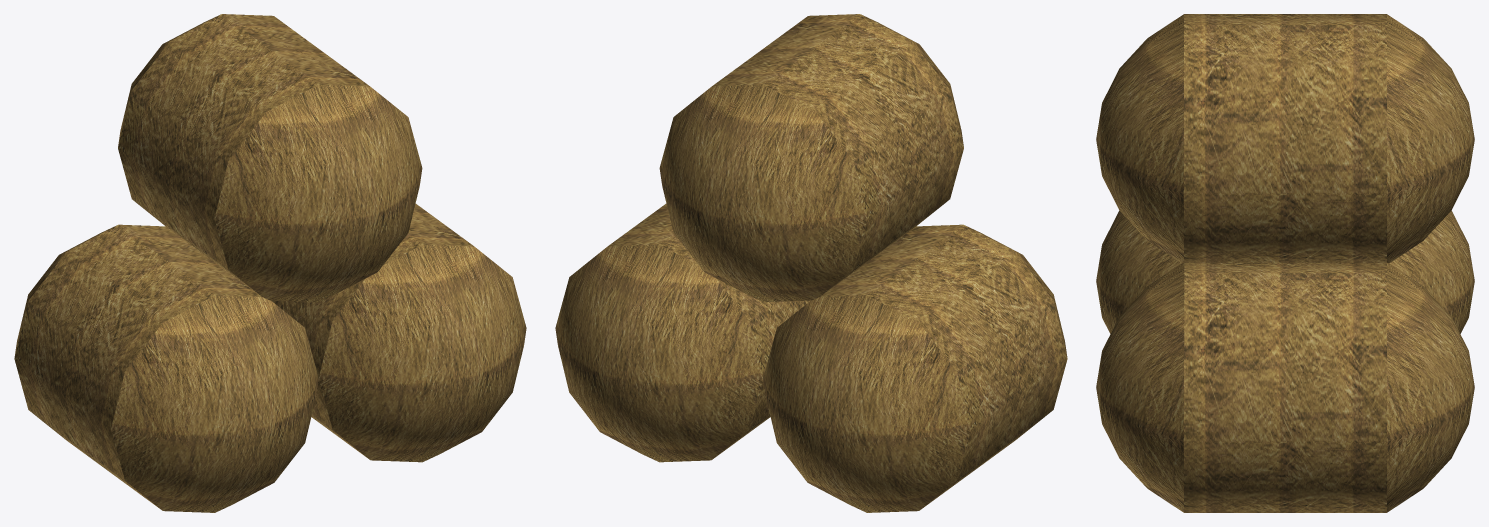
File: komedawara.fbx
3 renders of one model, left to right at view 1: azimuth 30°, elevation 25°; view 2: azimuth 150°, elevation 25°; view 3: azimuth 270°, elevation 25°, orthographic. The views are drawn at different scales.
Parts seen in each view (by area): view 1: OilTank001, OilTank002, OilTank003; view 2: OilTank001, OilTank002, OilTank003; view 3: OilTank003, OilTank001, OilTank002.
Part boxes in pixels (x1,y1,x2,y2): OilTank001: [118, 14, 422, 302]; OilTank002: [14, 224, 318, 512]; OilTank003: [271, 203, 526, 462]; OilTank001: [659, 14, 963, 302]; OilTank002: [763, 224, 1067, 512]; OilTank003: [555, 203, 810, 462]; OilTank003: [1096, 262, 1474, 512]; OilTank001: [1096, 14, 1474, 263]; OilTank002: [1096, 210, 1474, 333].
Size of the model in its own units: 152 by 114 by 141.
